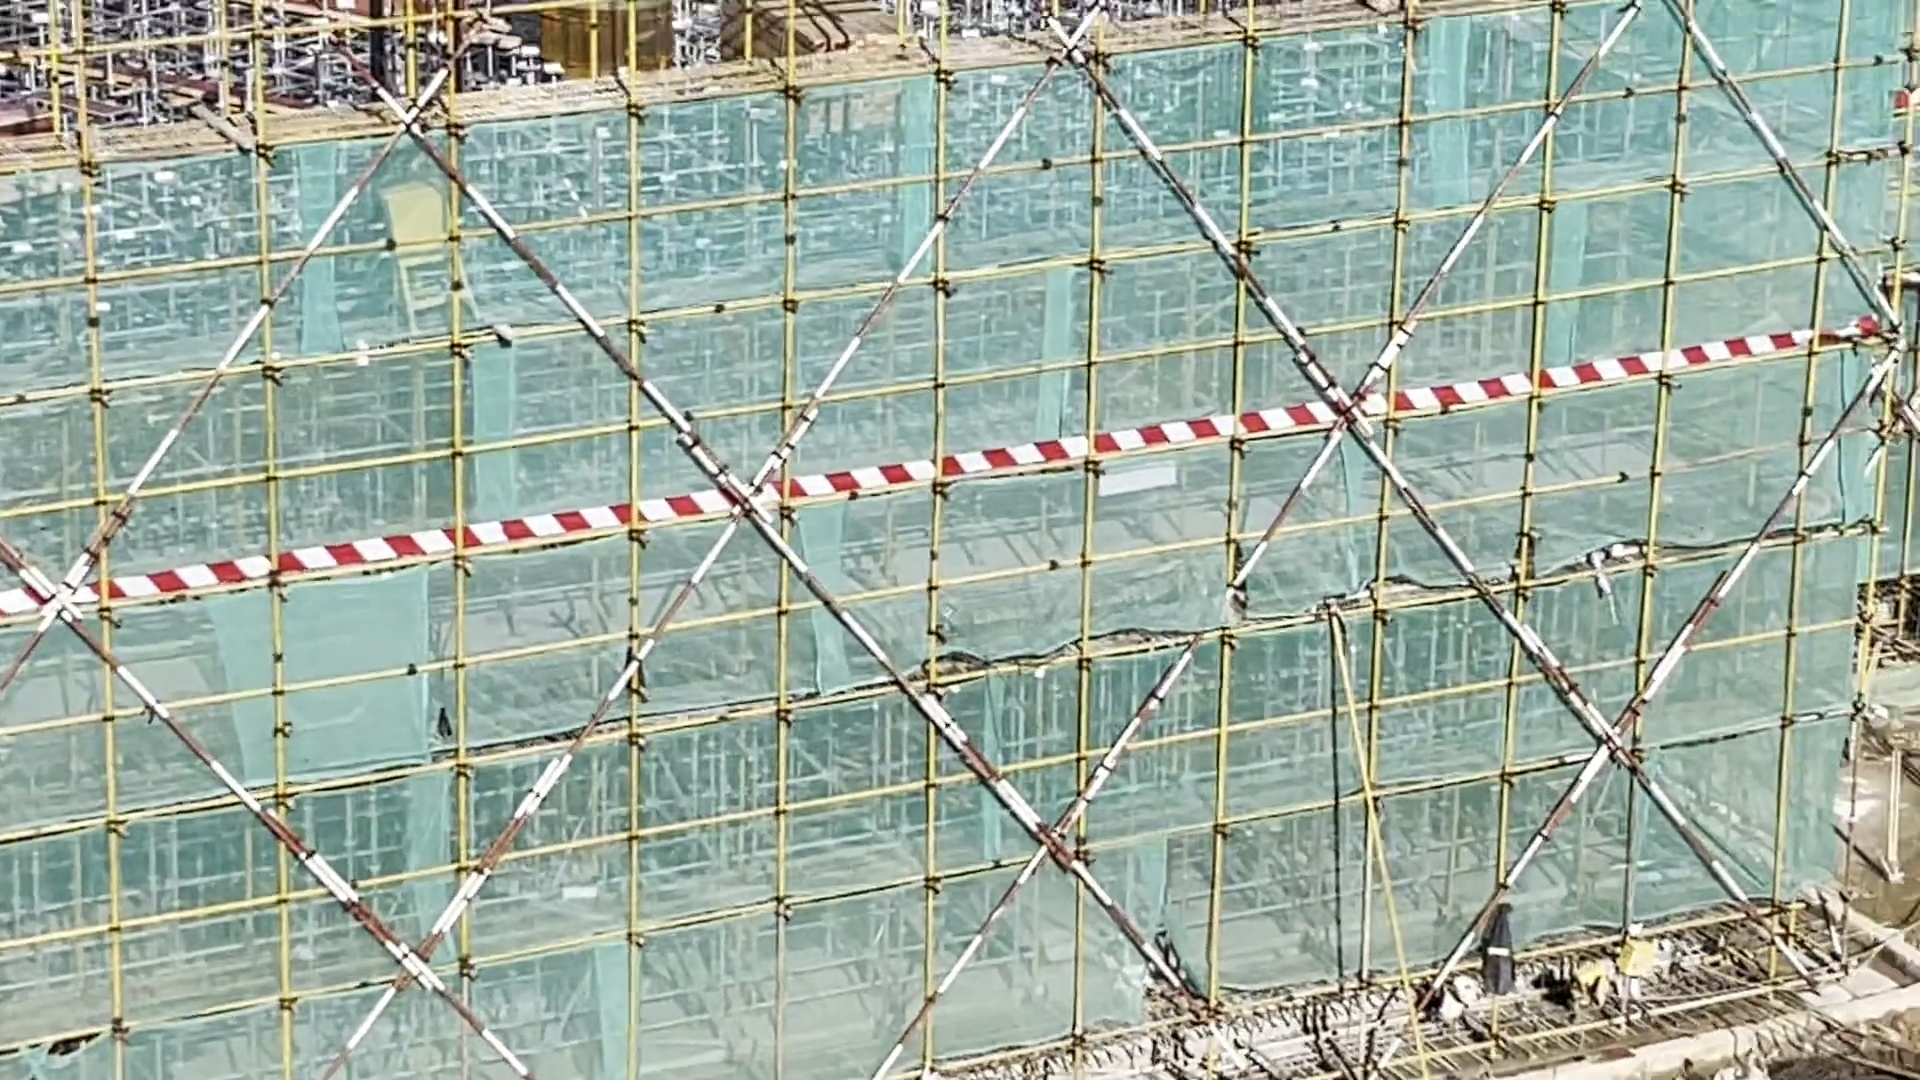ebox: (355, 169, 480, 313)
